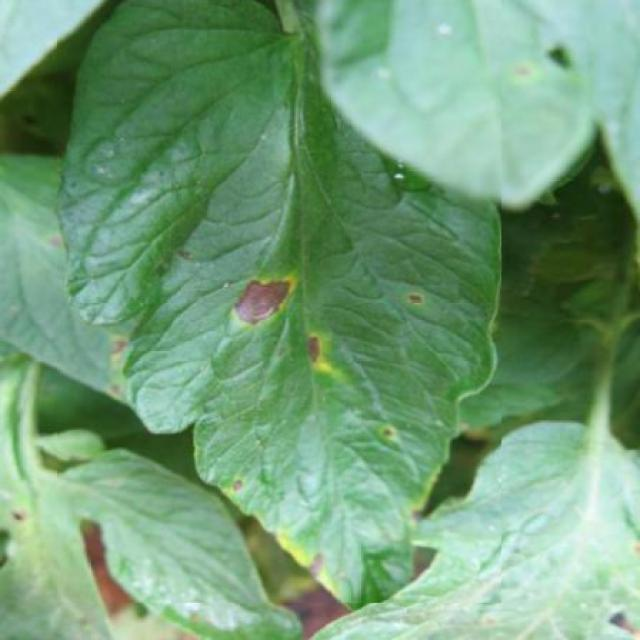Early Blight: (57, 0, 502, 603)
